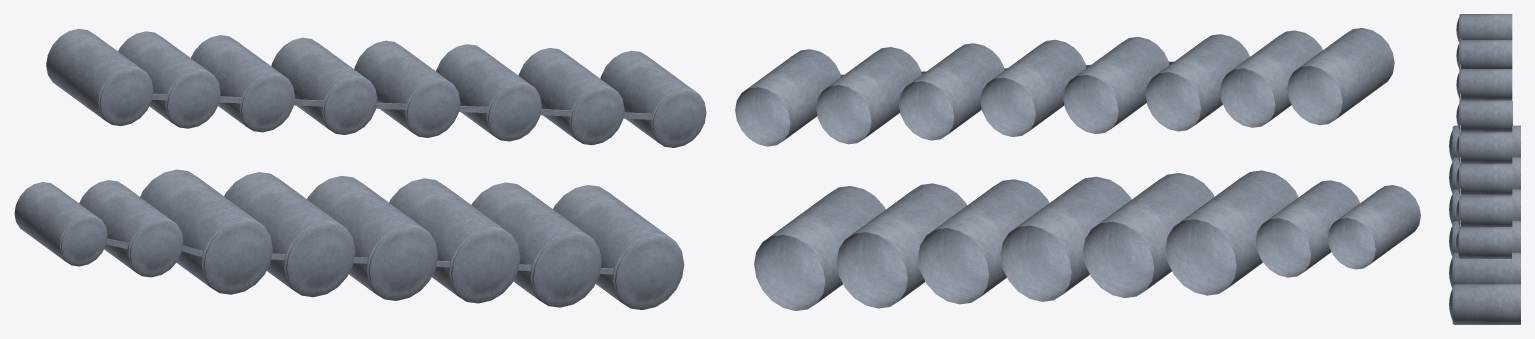
File: p5_jar_white_attach.fbx
The picture shows the model from 3 angles, left to right: view 1: azimuth 30°, elevation 25°; view 2: azimuth 150°, elevation 25°; view 3: azimuth 270°, elevation 25°; orthographic projection. The views are drawn at different scales.
Visible parts, largest first — view 1: P5_jar_white_attach; view 2: P5_jar_white_attach; view 3: P5_jar_white_attach.
Boxes of the visible parts, x1,y1,x2,y2 form: P5_jar_white_attach: (14, 28, 706, 309); P5_jar_white_attach: (735, 28, 1420, 310); P5_jar_white_attach: (1449, 14, 1520, 324).
Size of the model in its own units: 10528 by 5692 by 2049.
